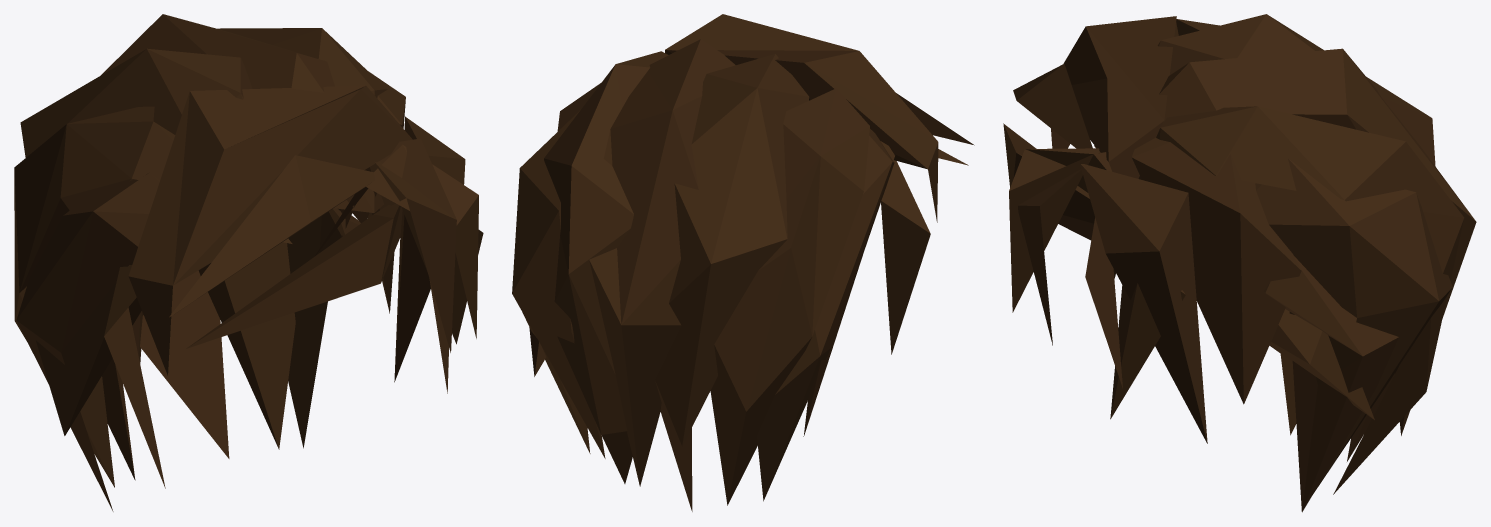
The model's file is hair-parted.low.dc0e8c2c.glb.
3 views of the same model, side by side, from view 1: azimuth 30°, elevation 25°; view 2: azimuth 150°, elevation 25°; view 3: azimuth 270°, elevation 25° (orthographic). The views are drawn at different scales.
Parts seen in each view (by area): view 1: hair-parted; view 2: hair-parted; view 3: hair-parted.
Part boxes in pixels (bbox=[...]): hair-parted: bbox=[14, 14, 483, 511]; hair-parted: bbox=[512, 14, 974, 511]; hair-parted: bbox=[1003, 14, 1476, 512].
Size of the model in its own units: 0.2149 by 0.2535 by 0.2502.
